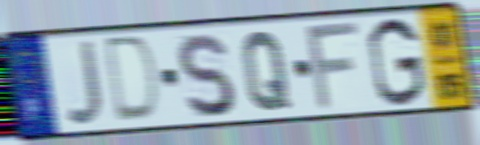D: (104, 32, 163, 126)
F: (304, 18, 363, 114)
G: (365, 15, 428, 109)
J: (62, 37, 106, 129)
Q: (239, 28, 293, 114)
S: (174, 30, 238, 121)
